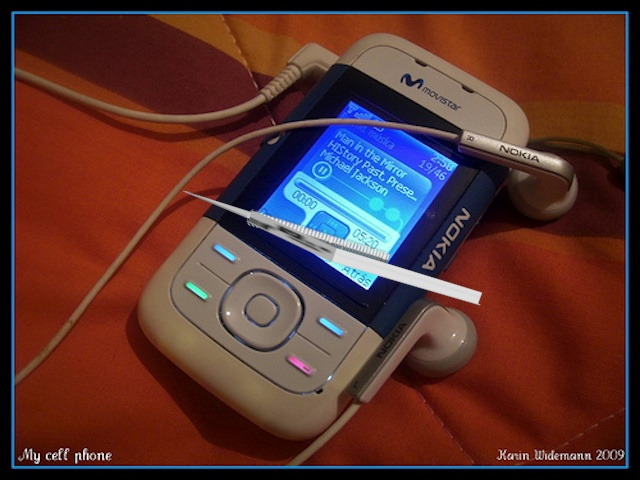paper_notebook: (177, 185, 488, 312)
